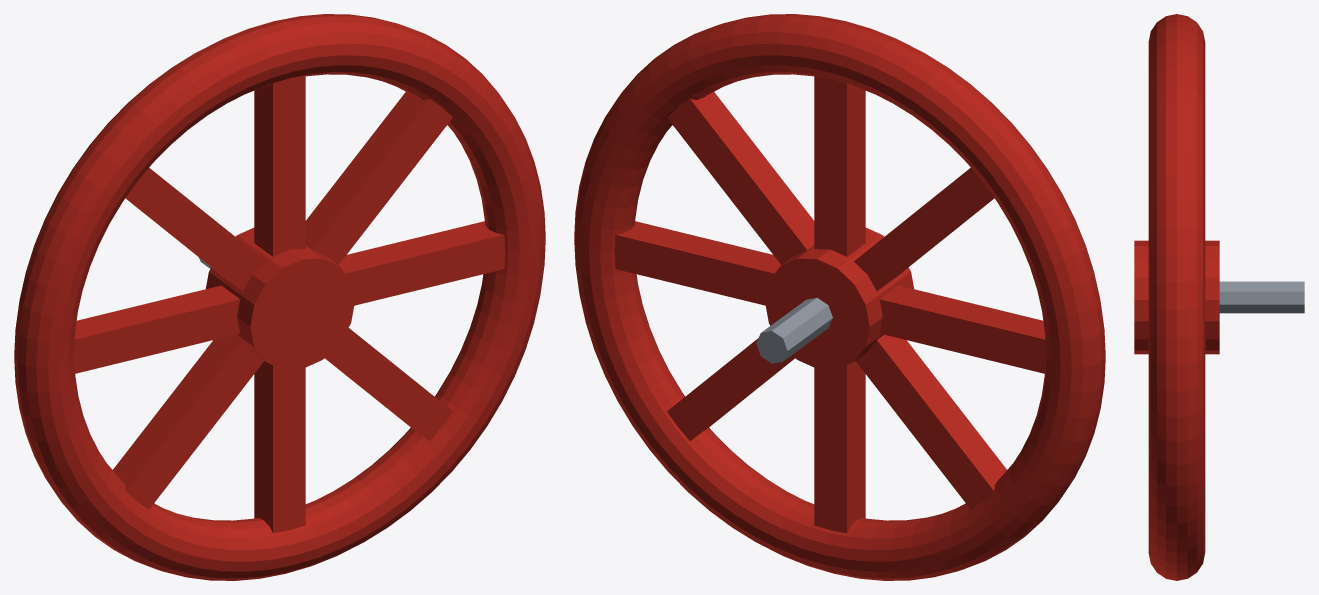
Rendered from valve_wheel.glb.
3 renders of one model, left to right at view 1: azimuth 30°, elevation 25°; view 2: azimuth 150°, elevation 25°; view 3: azimuth 270°, elevation 25°, orthographic. The views are drawn at different scales.
Visible parts, largest first — view 1: rim, spoke, hub; view 2: rim, spoke, hub, stem; view 3: rim, hub, stem.
Part boxes in pixels (x1,y1,x2,y2): rim: (14, 14, 545, 580); spoke: (73, 75, 505, 533); hub: (206, 227, 354, 369); rim: (574, 14, 1105, 580); spoke: (614, 75, 1046, 533); hub: (765, 227, 913, 369); stem: (756, 297, 832, 363); rim: (1148, 14, 1205, 580); hub: (1134, 240, 1219, 354); stem: (1219, 281, 1304, 313).
Size of the model in its own units: 0.4 by 0.4 by 0.12.
